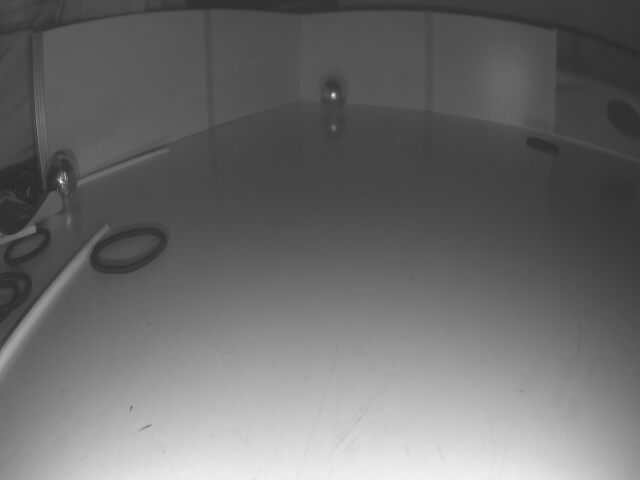Live: (46, 158, 78, 196), (323, 78, 345, 108)
